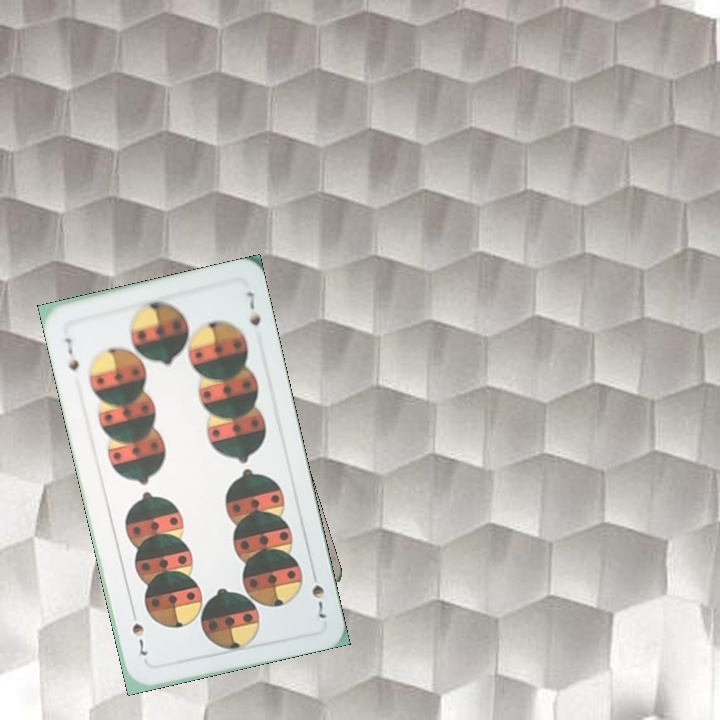S7: (61, 333, 82, 374), (308, 580, 328, 621)
